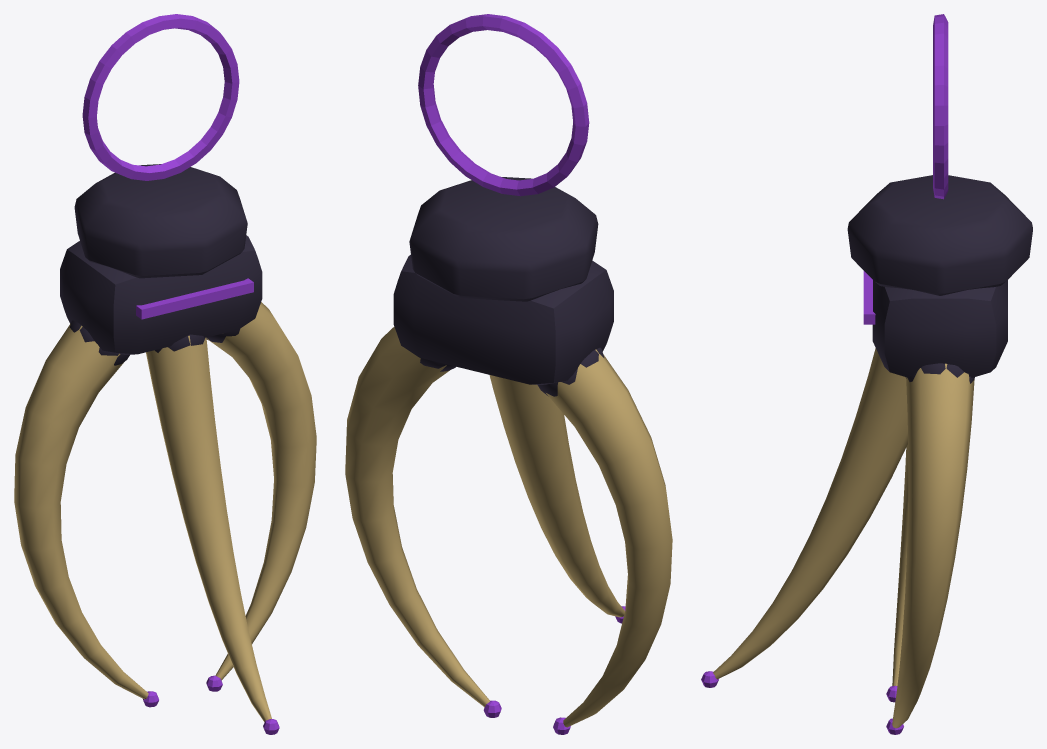
The model's file is Kit_Hand_LeagueTalon.glb.
3 views of the same model, side by side, from view 1: azimuth 30°, elevation 25°; view 2: azimuth 150°, elevation 25°; view 3: azimuth 270°, elevation 25° (orthographic). The views are drawn at different scales.
Parts seen in each view (by area): view 1: Kit_Hand_LeagueTalon; view 2: Kit_Hand_LeagueTalon; view 3: Kit_Hand_LeagueTalon.
Part boxes in pixels (x1,y1,x2,y2): Kit_Hand_LeagueTalon: [14, 14, 316, 734]; Kit_Hand_LeagueTalon: [345, 14, 672, 734]; Kit_Hand_LeagueTalon: [701, 14, 1032, 734].
Size of the model in its own units: 0.1582 by 0.34 by 0.147.
